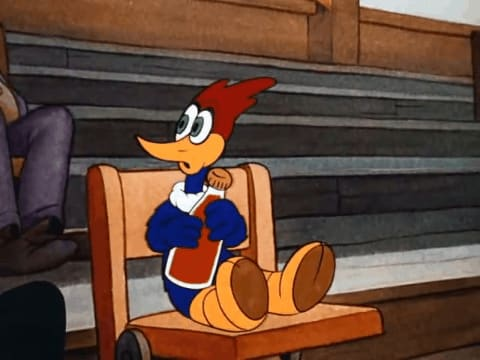picapau: (136, 71, 339, 326)
